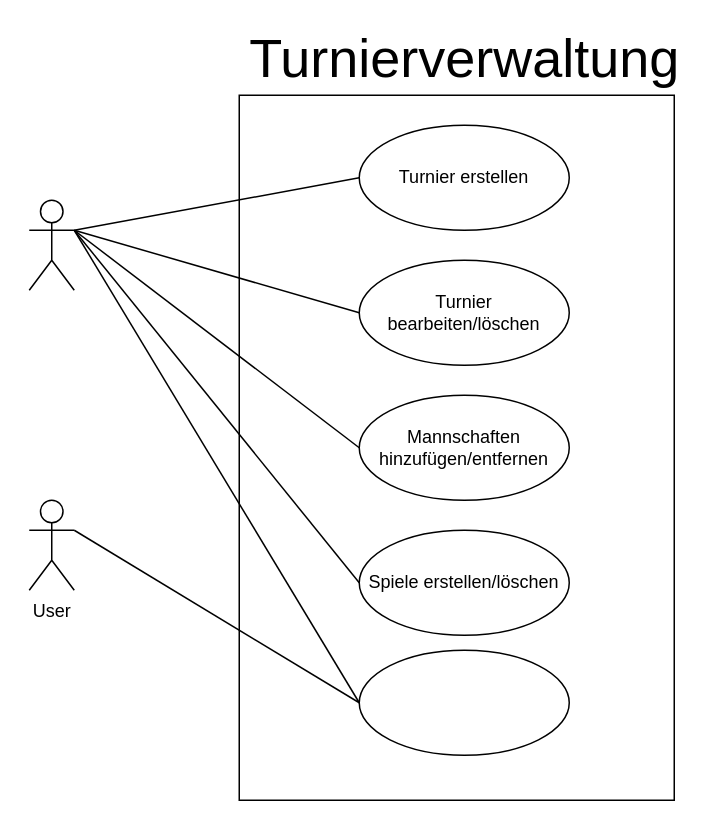
This 716x827 diagram has some shape labels left out. Each missing label, with the box of its shape:
Admin: (28, 199, 74, 290)
Turnierinfos einsehen: (358, 649, 569, 755)
